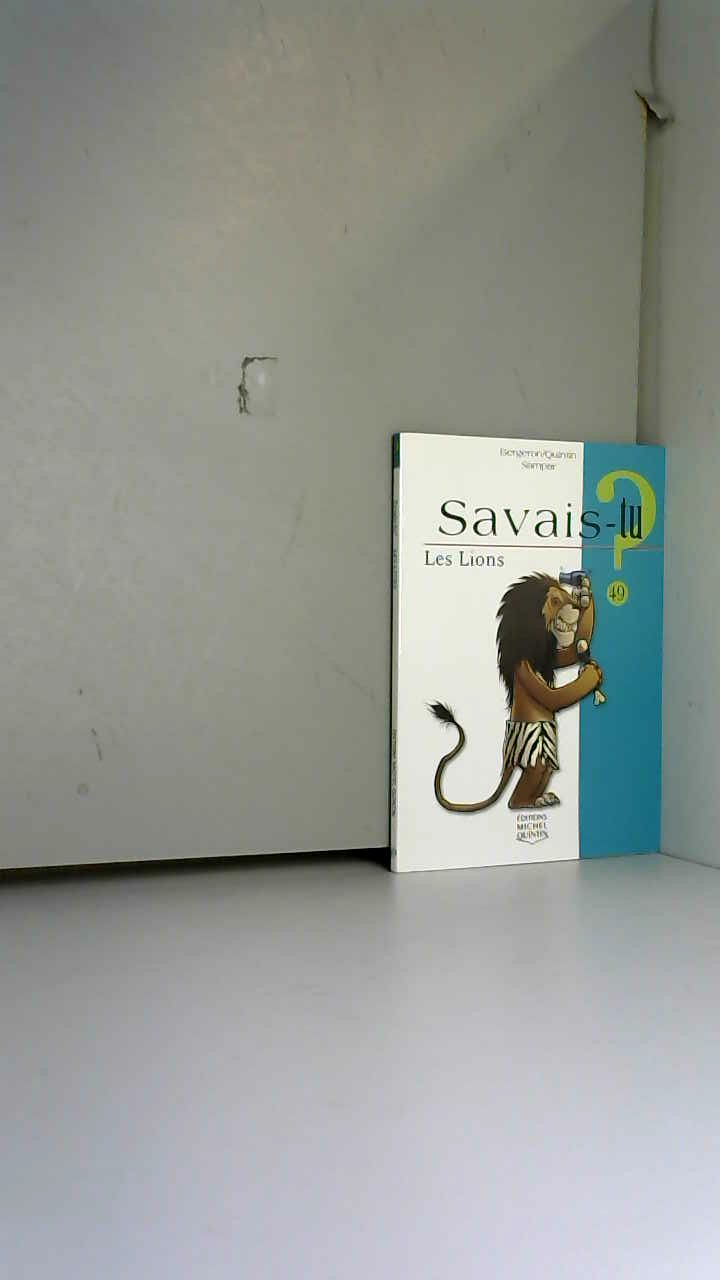book: (360, 400, 720, 898)
